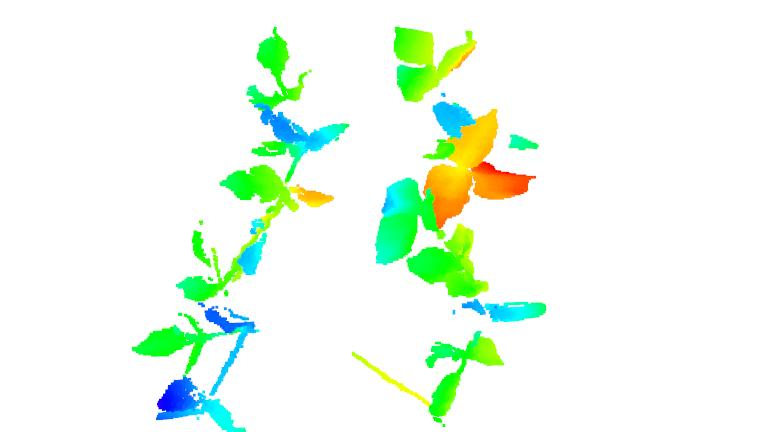mungbean: (381, 176, 554, 422), (130, 218, 274, 432), (387, 22, 538, 223), (212, 26, 350, 236)
